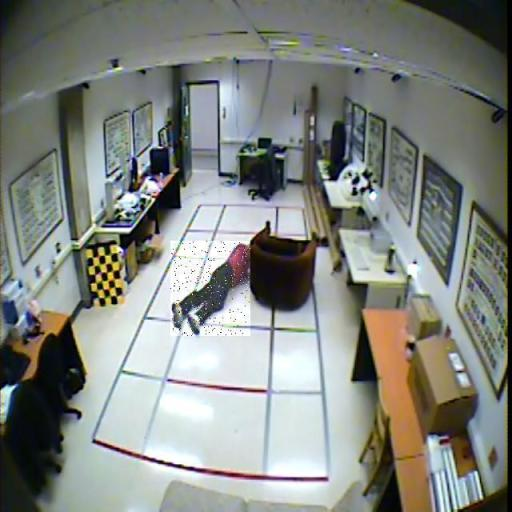Fall: (171, 241, 251, 336)
